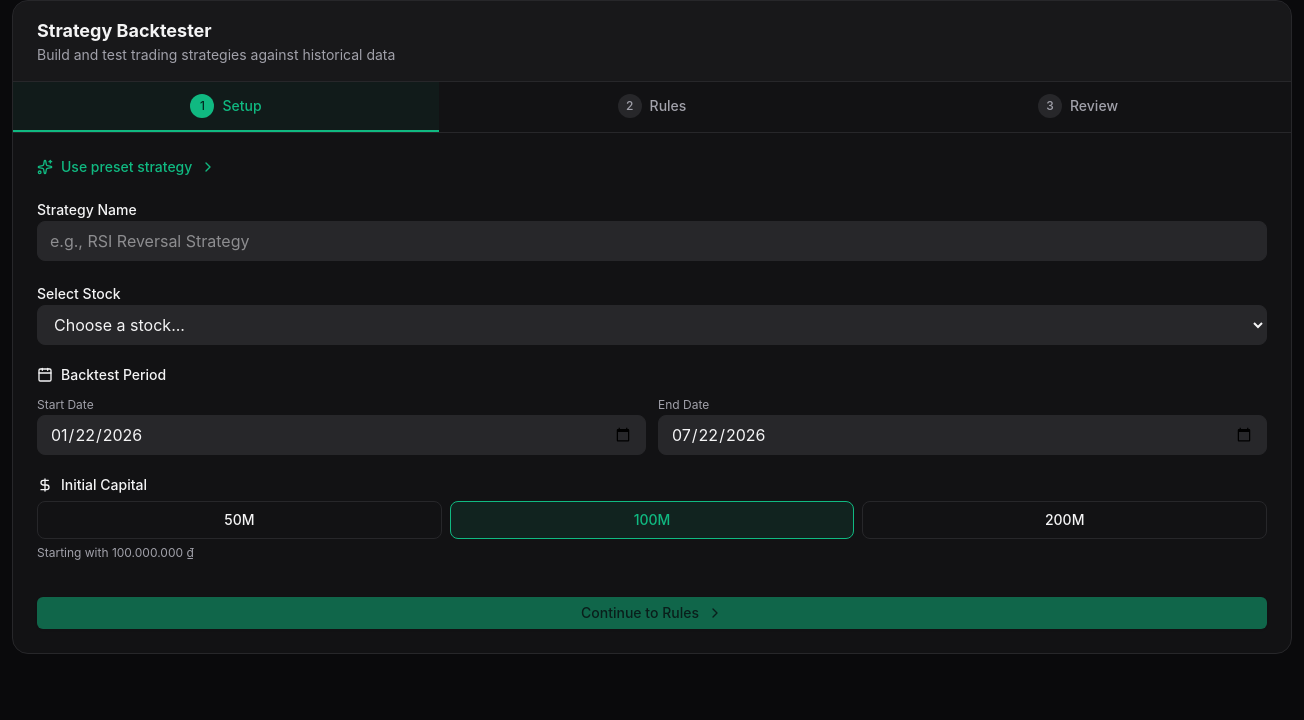
Test: BacktestForm › navigates to step 2 (Rules) when Continue is clicked
Fill required fields
Type "My Strategy" into the field with placeholder "e.g., RSI Reversal Strategy" at (652, 241), box [37,221,1267,261]
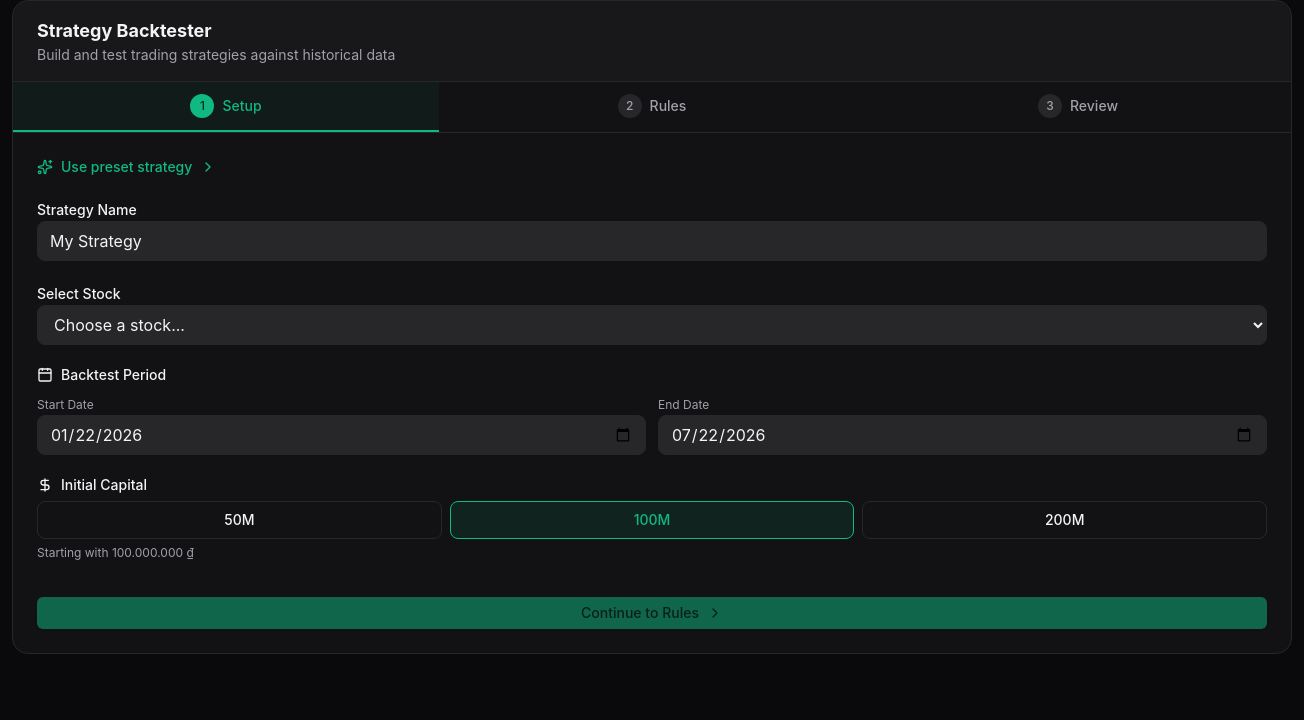
Select "FPT - FPT Corporation" in the dropdown at (652, 325), box [37,305,1267,345]
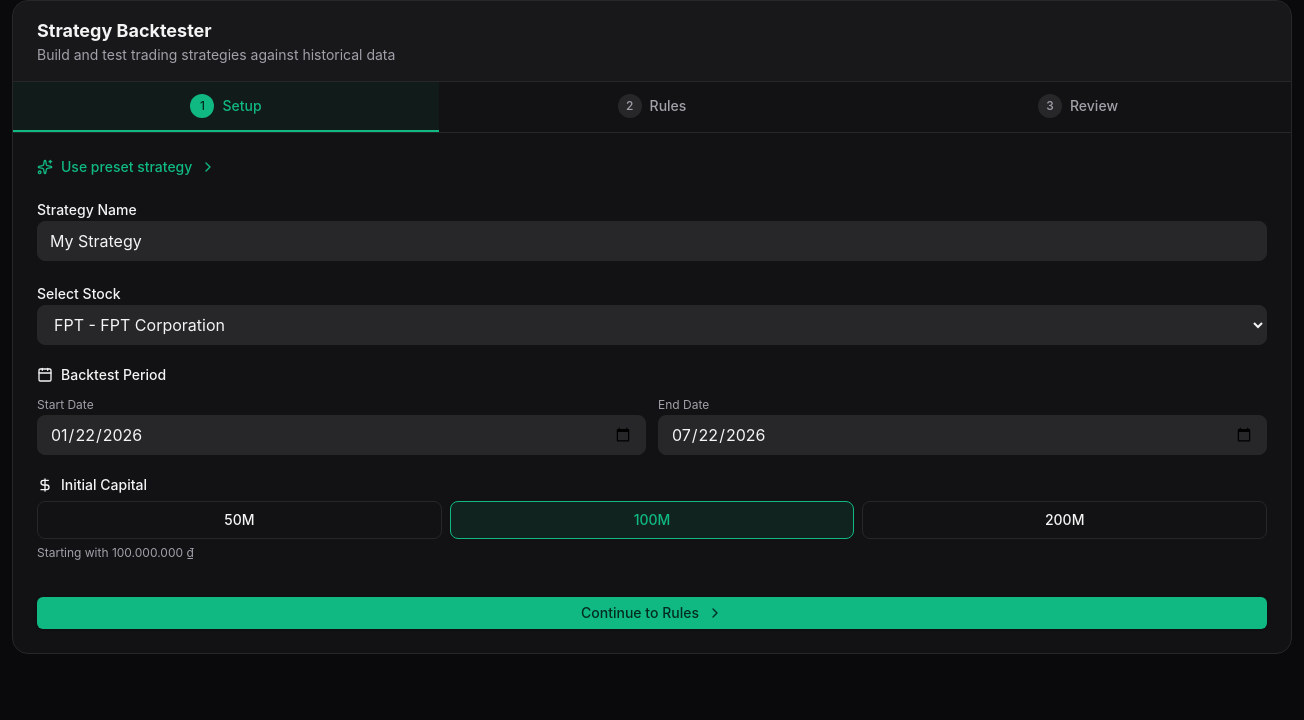
Click the button "Continue to Rules" at (652, 613), box [37,597,1267,629]
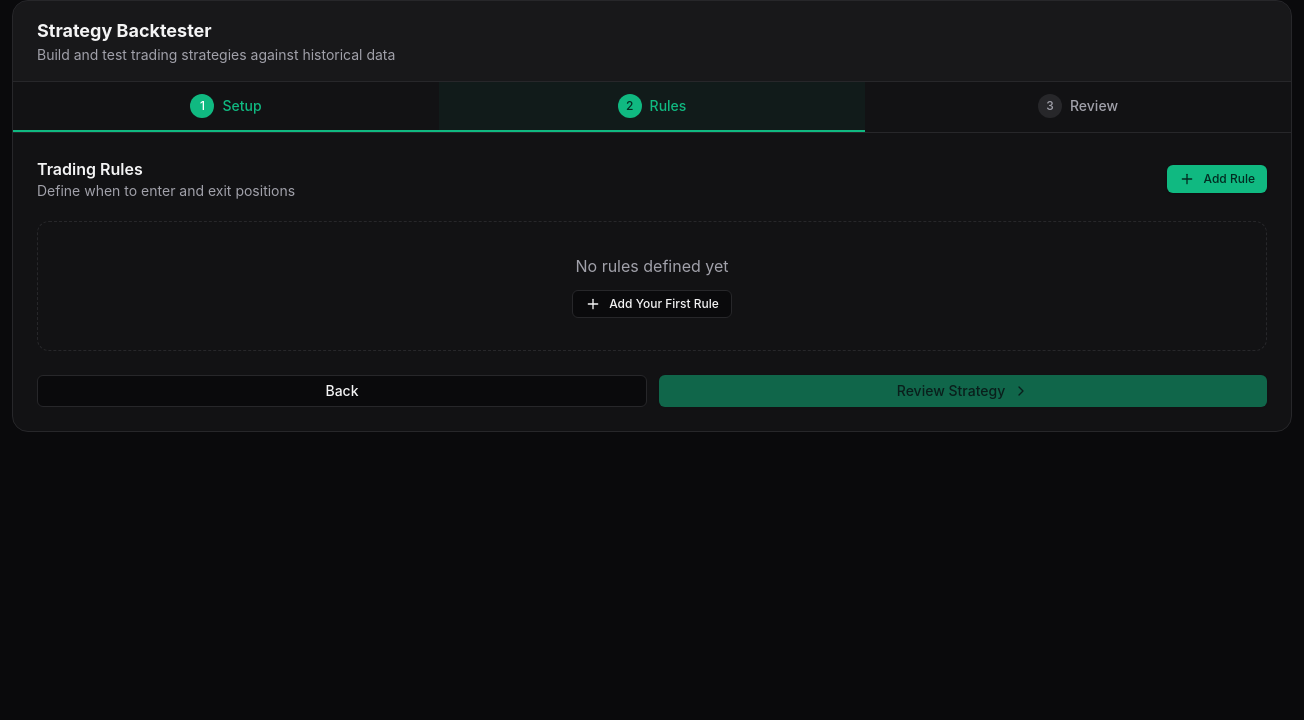
Now the heading "Trading Rules" is shown, box [37,159,143,179]
Now the text "Define when to enter and exit positions" is shown, box [37,181,295,201]
